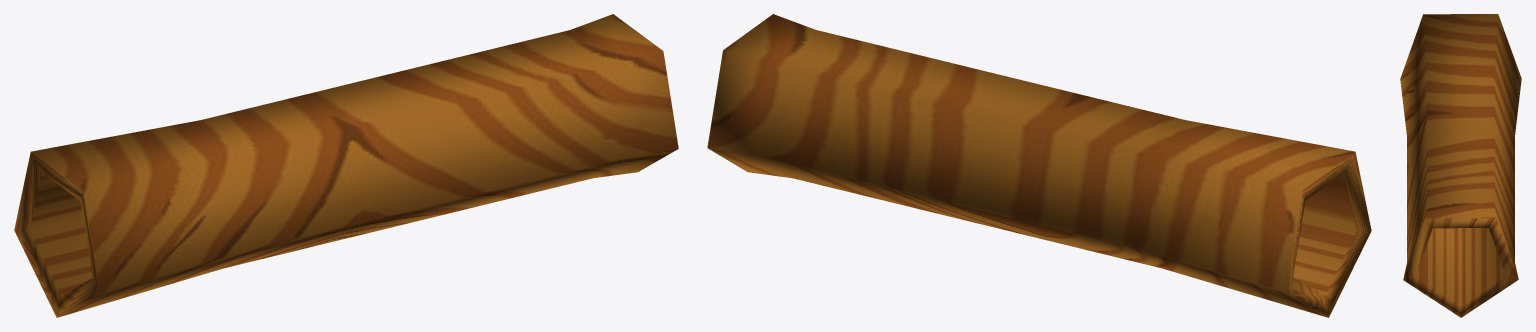
Rendered from log.obj.
3 views of the same model, side by side, from view 1: azimuth 30°, elevation 25°; view 2: azimuth 150°, elevation 25°; view 3: azimuth 270°, elevation 25° (orthographic). The views are drawn at different scales.
Visible parts, largest first — view 1: Cylinder; view 2: Cylinder; view 3: Cylinder.
Part boxes in pixels (x1,y1,x2,y2): Cylinder: [14, 14, 678, 317]; Cylinder: [707, 14, 1371, 317]; Cylinder: [1400, 14, 1521, 317].
Bounding box in the file's own units: 6.72 × 1.63 × 1.71.
